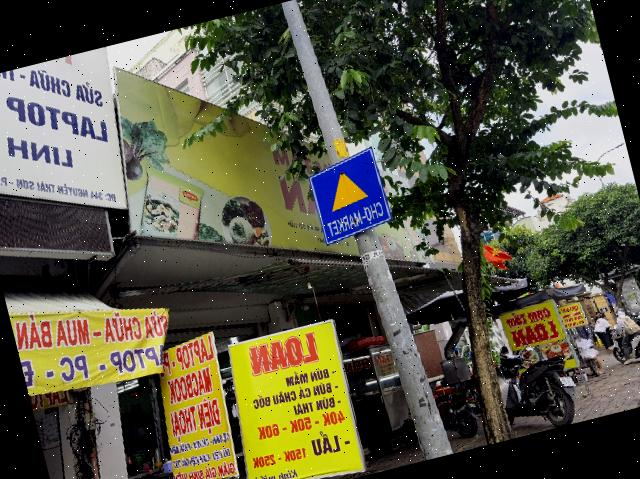khu-vuc-cho-phia-truoc: (305, 145, 395, 246)
